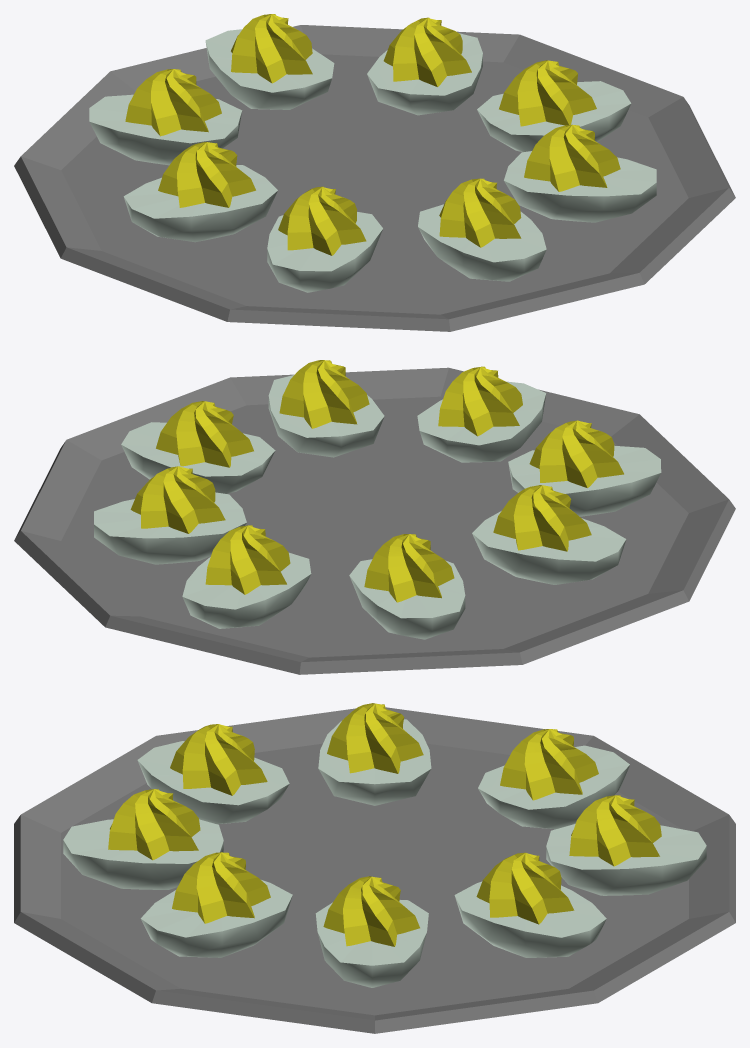
The model's file is DeviledEggs.glb.
3 renders of one model, top to bottom at view 1: azimuth 30°, elevation 25°; view 2: azimuth 150°, elevation 25°; view 3: azimuth 270°, elevation 25°, orthographic. The views are drawn at different scales.
Parts seen in each view (by area): view 1: Plate, Eggs, Fillings; view 2: Plate, Eggs, Fillings; view 3: Plate, Eggs, Fillings.
Part boxes in pixels (left/top/right/bottom): Plate: left=14, top=25, right=735, bottom=331; Eggs: left=89, top=29, right=656, bottom=292; Fillings: left=125, top=14, right=620, bottom=255; Plate: left=14, top=367, right=735, bottom=674; Eggs: left=94, top=375, right=661, bottom=639; Fillings: left=130, top=360, right=623, bottom=602; Plate: left=14, top=707, right=735, bottom=1033; Eggs: left=63, top=719, right=706, bottom=987; Fillings: left=108, top=703, right=661, bottom=946.
Size of the model in its own units: 2 by 0.2994 by 1.9.
